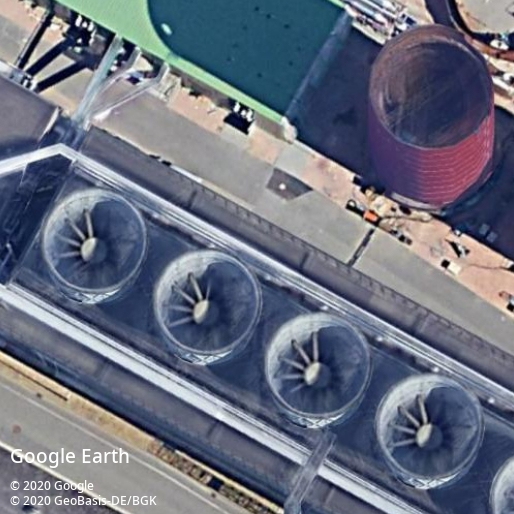Vent: (265, 312, 374, 420), (376, 374, 485, 481), (153, 250, 260, 355), (43, 189, 147, 293)
